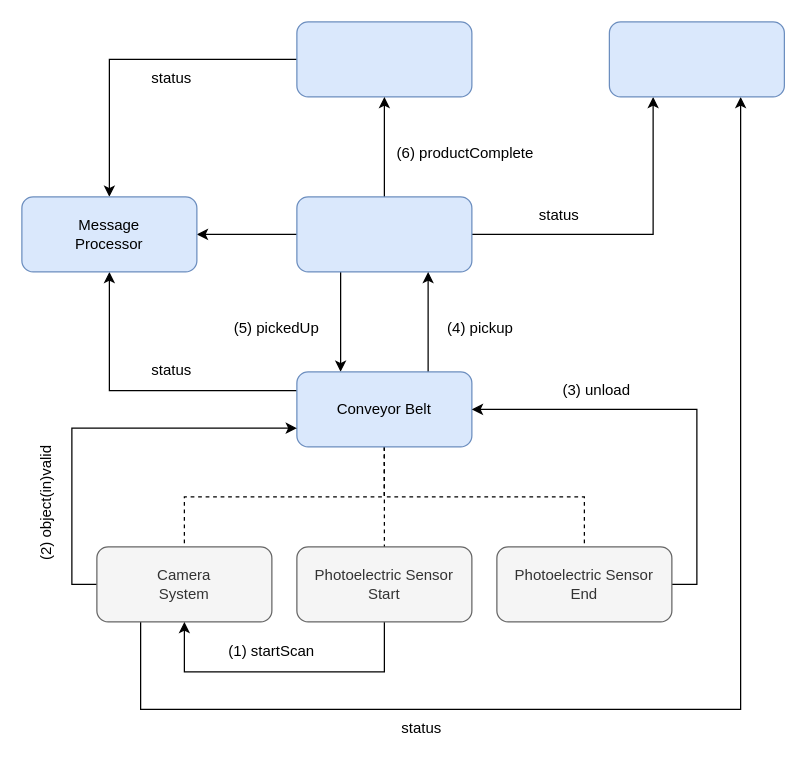
This 806x769 diagram has some shape labels left out. Each missing label, with the box of its shape:
Job Control: (296, 21, 472, 97)
Monitoring: (608, 21, 784, 97)
Robotic Arm: (296, 196, 472, 272)
